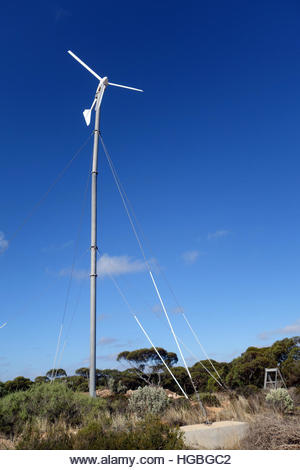faulty: (58, 41, 144, 143)
